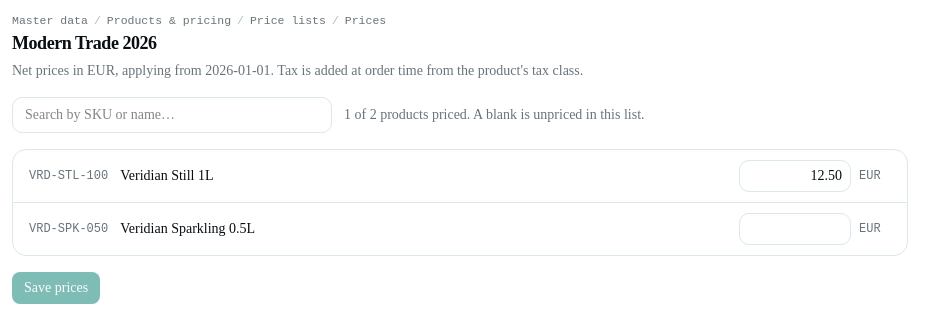
Test: <PriceListPrices> › offers nothing to save until an amount changes
Expected: the button "Save prices" is disabled, left=12, top=272, right=100, bottom=304
Type "1.00" into the field named "Price for Veridian Sparkling 0.5L".
click(795, 229); type("1.00")  # box left=739, top=213, right=851, bottom=245
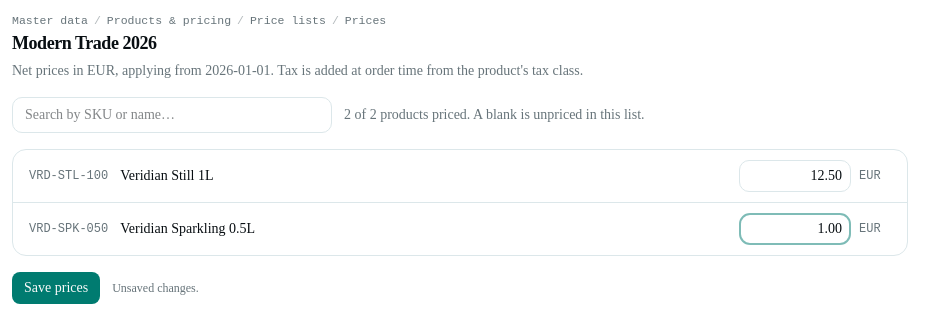
Expected: the button "Save prices" is enabled, left=12, top=272, right=100, bottom=304
Clear the field named "Price for Veridian Sparkling 0.5L" at (795, 229), box left=739, top=213, right=851, bottom=245
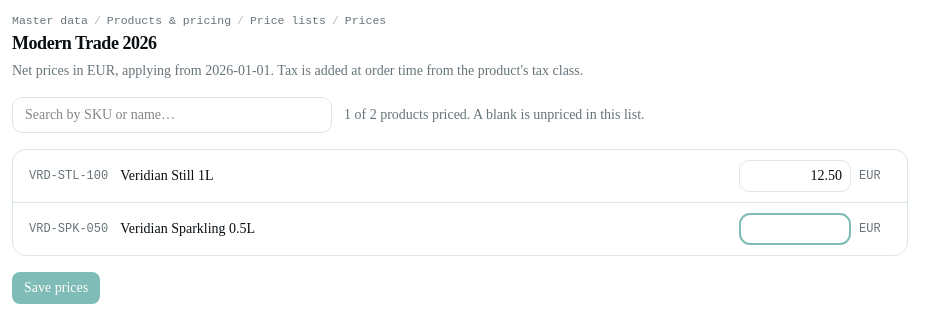
Expected: the button "Save prices" is disabled, left=12, top=272, right=100, bottom=304
